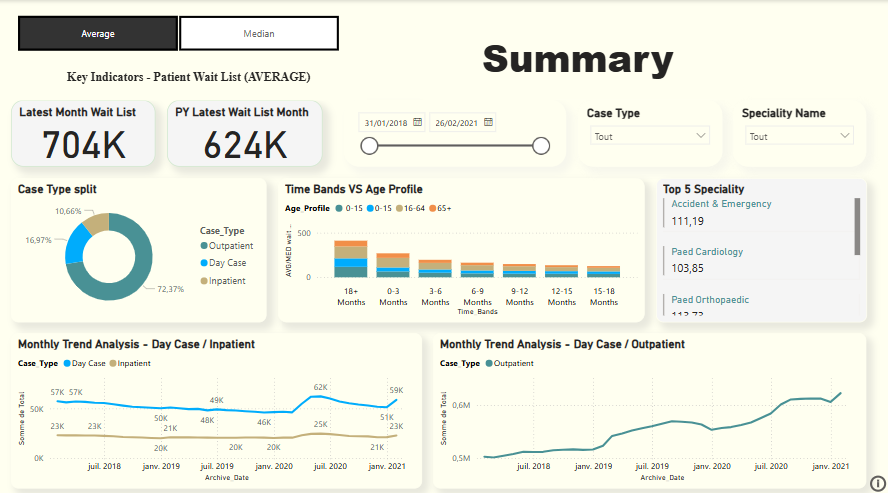

This screenshot's page, from the dashboard's own definition file:
{"tool":"powerbi","page":{"name":"Summary","canvas":[1280,720],"ordinal":0},"visuals":[{"type":"card","title":"Latest Month Wait List","fields":{"Values":["All_Data.Latest Month Wait List"]},"box":[16,144,208,96],"z":0},{"type":"card","title":"PY Latest Wait List Month ","fields":{"Values":["All_Data.PY Latest month Wait List"]},"box":[240,144,224,96],"z":1000},{"type":"slicer","fields":{"Values":["Calculation method.Calc method"]},"box":[0,16,512,64],"z":2000},{"type":"donutChart","title":"Case Type split","fields":{"Category":["All_Data.Case_Type"],"Y":["All_Data.AVG/MED wait list"]},"box":[16,256,368,208],"z":3000},{"type":"columnChart","title":"Time Bands VS Age Profile","fields":{"Y":["All_Data.AVG/MED wait list"],"Category":["All_Data.Time_Bands"],"Series":["All_Data.Age_Profile"]},"box":[400,256,528,208],"z":4000},{"type":"multiRowCard","title":"Top 5 Speciality","fields":{"Values":["All_Data.Speciality_Name","All_Data.AVG/MED wait list"]},"box":[944,256,304,208],"z":5000},{"type":"lineChart","title":"Monthly Trend Analysis - Day Case / Inpatient","fields":{"Y":["Sum(All_Data.Total)"],"Category":["All_Data.Archive_Date"],"Series":["All_Data.Case_Type"]},"box":[16,480,592,224],"z":6000},{"type":"lineChart","title":"Monthly Trend Analysis - Day Case / Outpatient","fields":{"Category":["All_Data.Archive_Date"],"Y":["Sum(All_Data.Total)"],"Series":["All_Data.Case_Type"]},"box":[624,480,624,224],"z":7000},{"type":"slicer","fields":{"Values":["All_Data.Archive_Date"]},"box":[496,144,320,96],"z":8000},{"type":"slicer","title":"Case Type","fields":{"Values":["All_Data.Case_Type"]},"box":[832,144,208,96],"z":9000},{"type":"slicer","title":"Speciality Name","fields":{"Values":["All_Data.Speciality_Name"]},"box":[1056,144,192,96],"z":10000},{"type":"textbox","box":[592,32,480,112],"z":11000},{"type":"card","fields":{"Values":["All_Data.Dynamic Title"]},"box":[16,80,512,64],"z":12000},{"type":"actionButton","box":[1248,672,32,48],"z":13000}]}

Visuals, with their boxes in screenshot pixels (x1, y1, x2, y2), scaled from the page's 1280x720 canvas onto the 888x493 screenshot:
"Latest Month Wait List" card: region(11, 99, 155, 164)
"PY Latest Wait List Month " card: region(166, 99, 322, 164)
slicer - Calculation method.Calc method: region(0, 11, 355, 55)
"Case Type split" donutChart: region(11, 175, 266, 318)
"Time Bands VS Age Profile" columnChart: region(278, 175, 644, 318)
"Top 5 Speciality" multiRowCard: region(655, 175, 866, 318)
"Monthly Trend Analysis - Day Case / Inpatient" lineChart: region(11, 329, 422, 482)
"Monthly Trend Analysis - Day Case / Outpatient" lineChart: region(433, 329, 866, 482)
slicer - All_Data.Archive_Date: region(344, 99, 566, 164)
"Case Type" slicer: region(577, 99, 722, 164)
"Speciality Name" slicer: region(733, 99, 866, 164)
textbox: region(411, 22, 744, 99)
card - All_Data.Dynamic Title: region(11, 55, 366, 99)
actionButton: region(866, 460, 887, 492)
